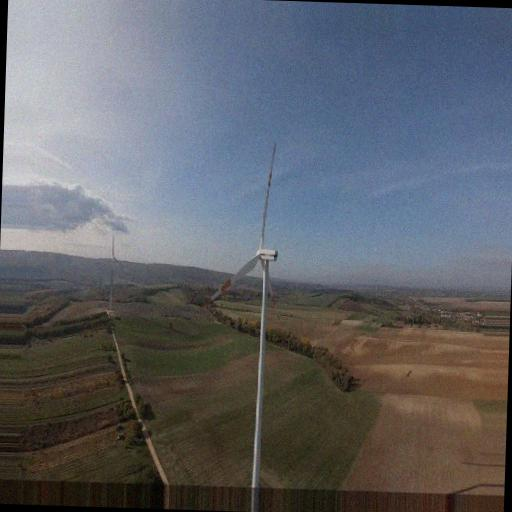wind turbine: (207, 141, 286, 479)
